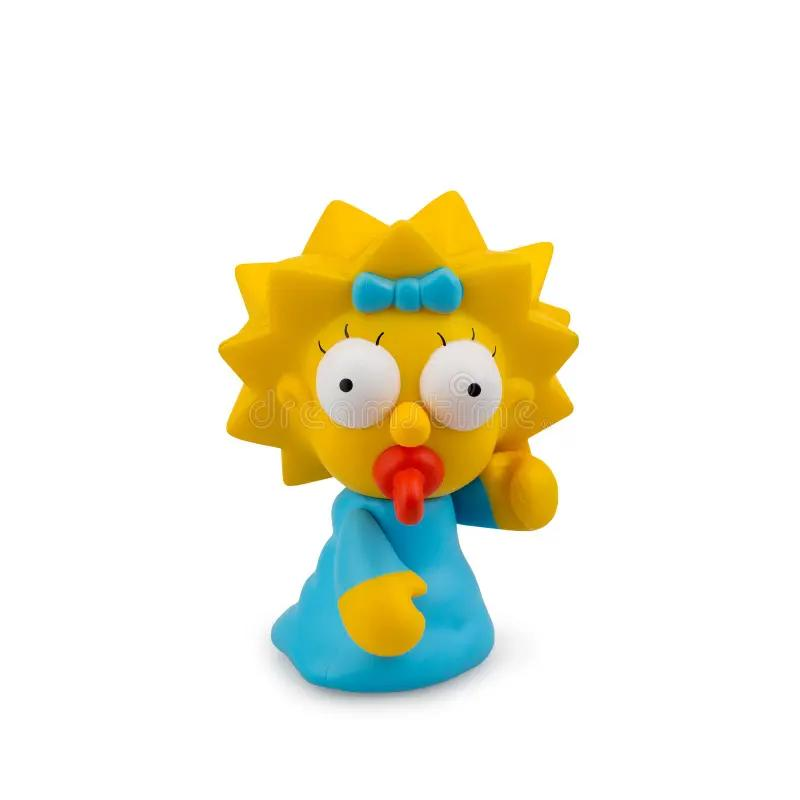Maggie: (192, 185, 625, 707)
